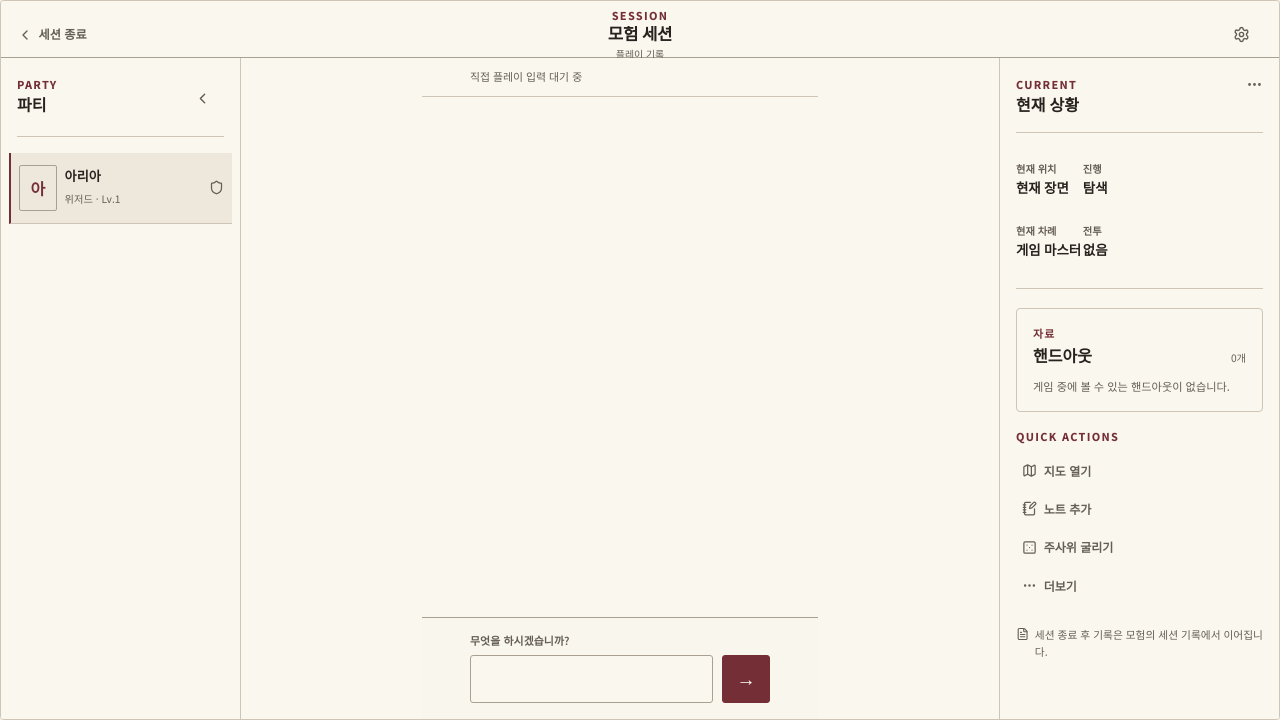
it: SessionRuntime › 접기 버튼으로 플레이 캐릭터 패널을 숨겼다가 다시 펼친다
expect the text "아리아" is shown: met, box [65,169,101,184]
Click the button named "플레이 캐릭터 패널 접기".
click(202, 98)  # box [180,76,224,120]
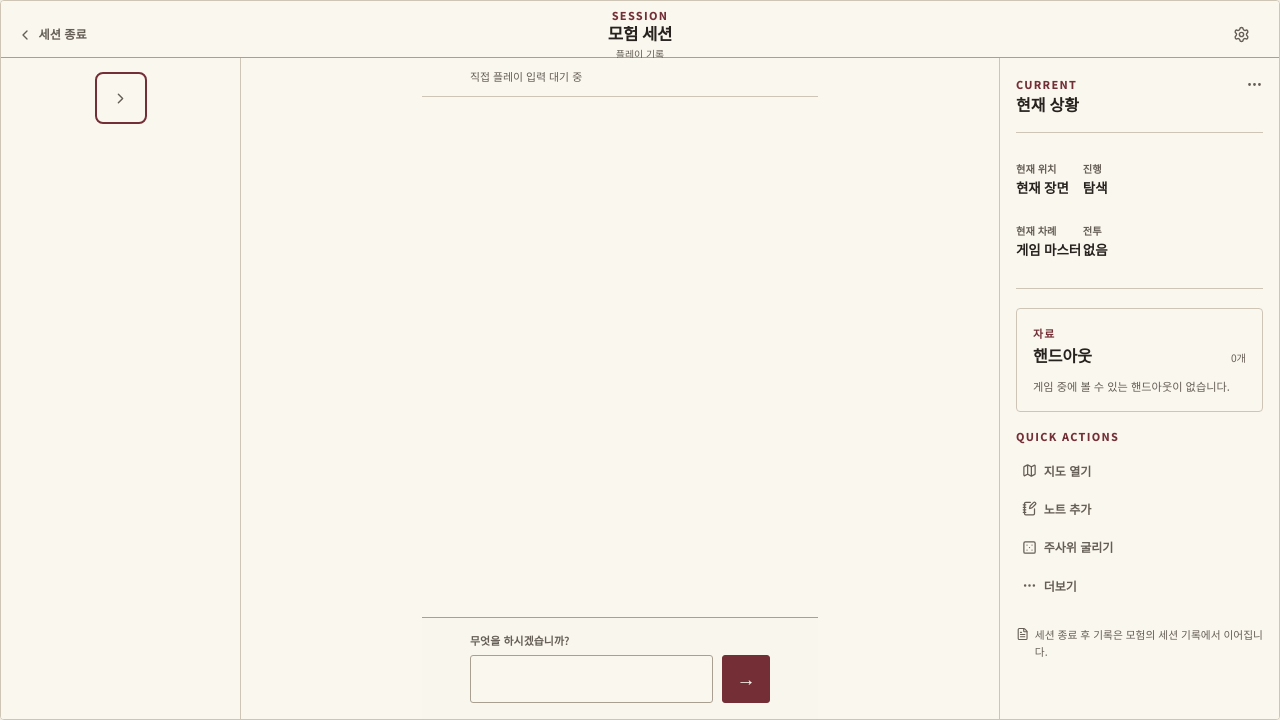
expect the text "아리아" is gone: met
Click the button named "플레이 캐릭터 패널 펼치기".
click(120, 98)  # box [98,76,142,120]
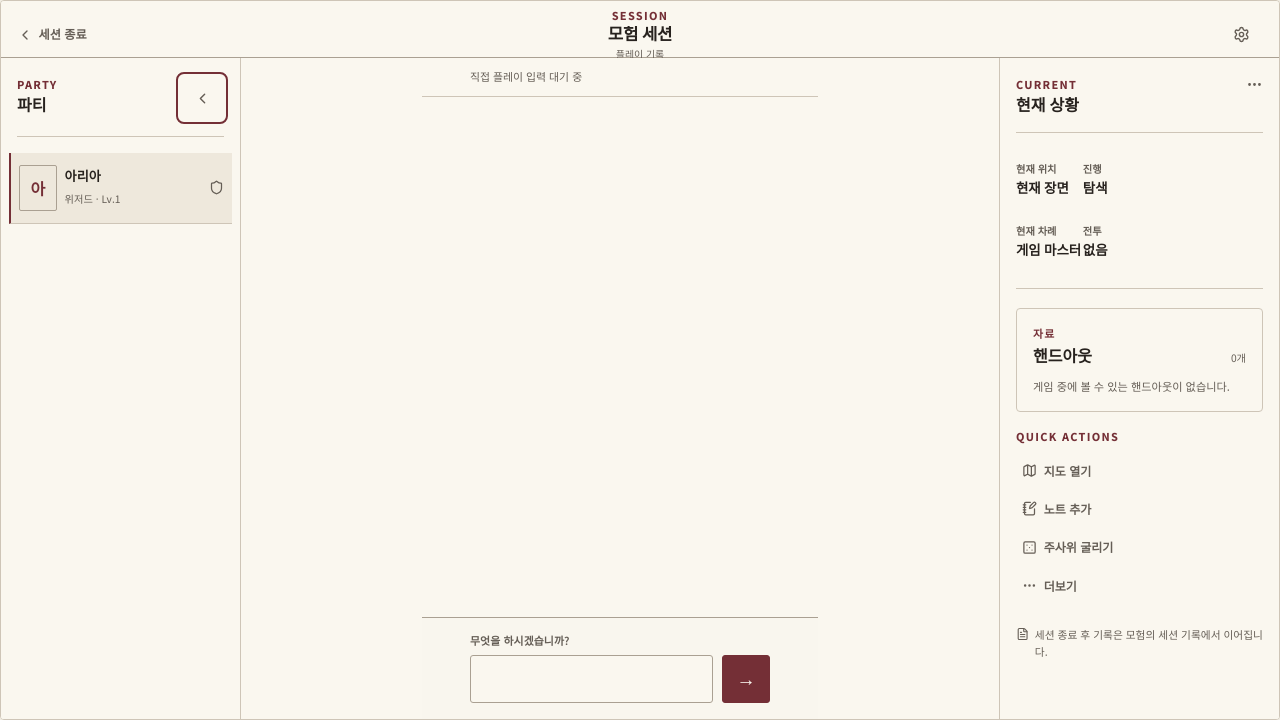
expect the text "아리아" is shown: met, box [65,169,101,184]
